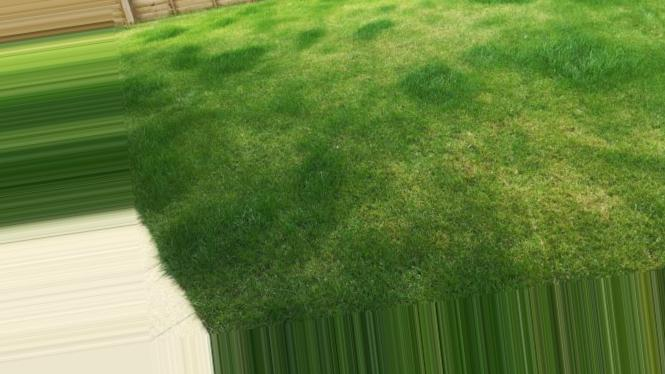patch: (374, 2, 464, 60), (549, 173, 620, 216)
